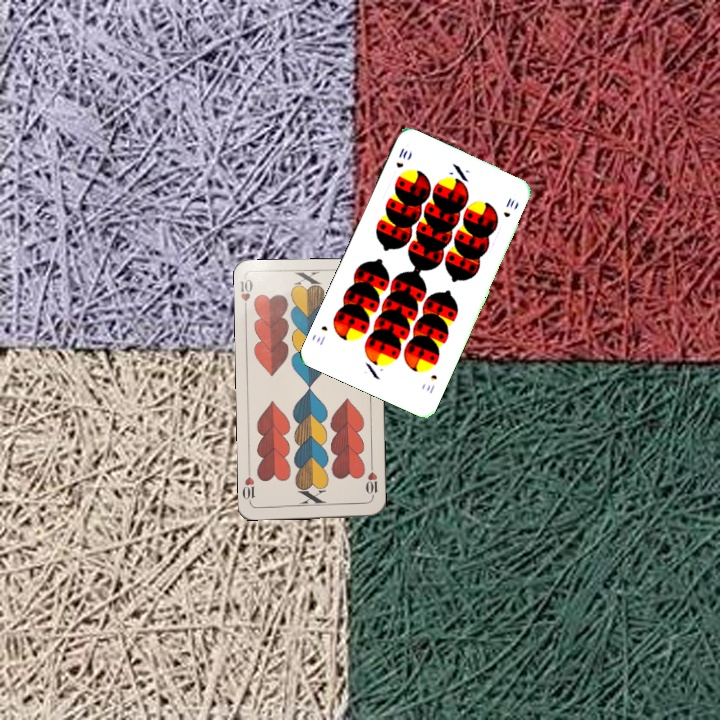H10: (361, 461, 380, 501), (237, 275, 255, 315)
S10: (392, 144, 410, 171), (422, 370, 440, 396)
